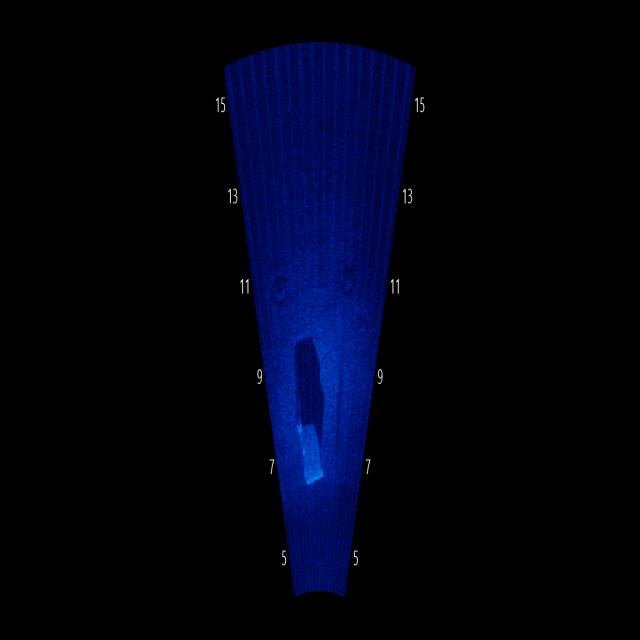square: (293, 404, 336, 508)
